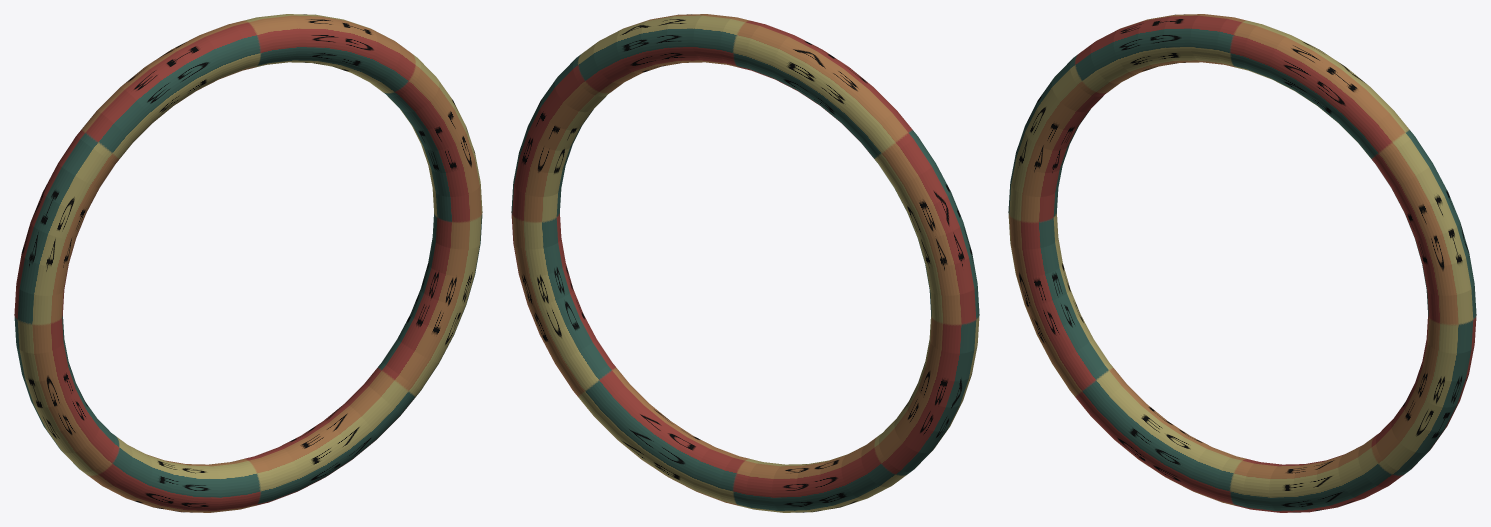
The model's file is texture_torus_R23_r2.glb.
3 renders of one model, left to right at view 1: azimuth 30°, elevation 25°; view 2: azimuth 150°, elevation 25°; view 3: azimuth 330°, elevation 25°, orthographic.
Visible parts, largest first — view 1: world; view 2: world; view 3: world.
Part boxes in pixels (x1,y1,x2,y2): world: (14, 14, 482, 512); world: (511, 14, 979, 512); world: (1008, 14, 1476, 512).
Size of the model in its own units: 27.87 by 27.81 by 2.53.
1 material, 1 textured.
